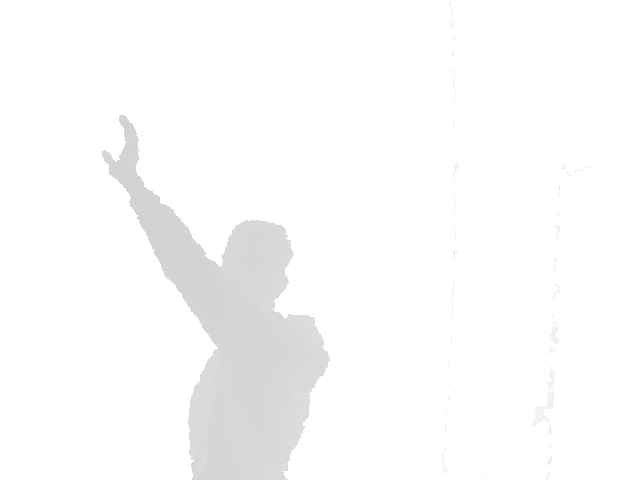hand: (100, 113, 144, 180)
head: (219, 219, 295, 310)
person: (101, 113, 330, 480)
